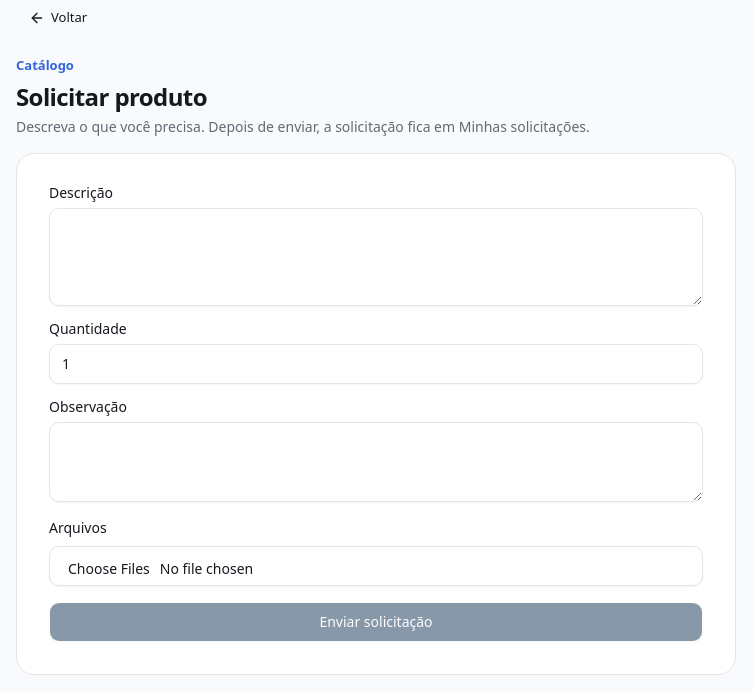
Test: PortalProductRequestPage validity gate › confirms the sent request and links Minhas solicitações
This screenshot has width=753, height=692.
Check: the link "Minhas solicitações" is not shown
Step 1. Type "Rede de vôlei" into the text box labelled "Descrição" → (376, 256), box 49,208 -> 703,306
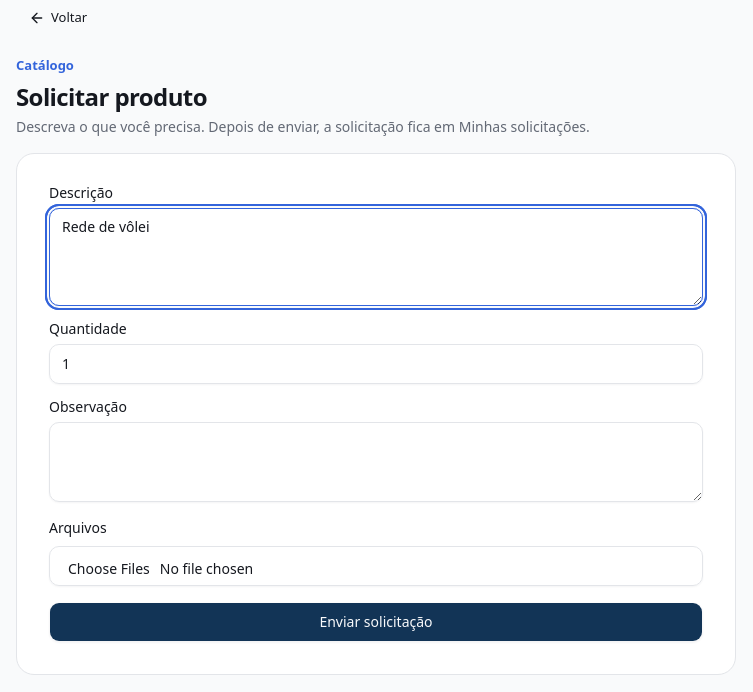
Step 2. Type "Cor azul" into the text box labelled "Observação" → (376, 462), box 49,422 -> 703,502
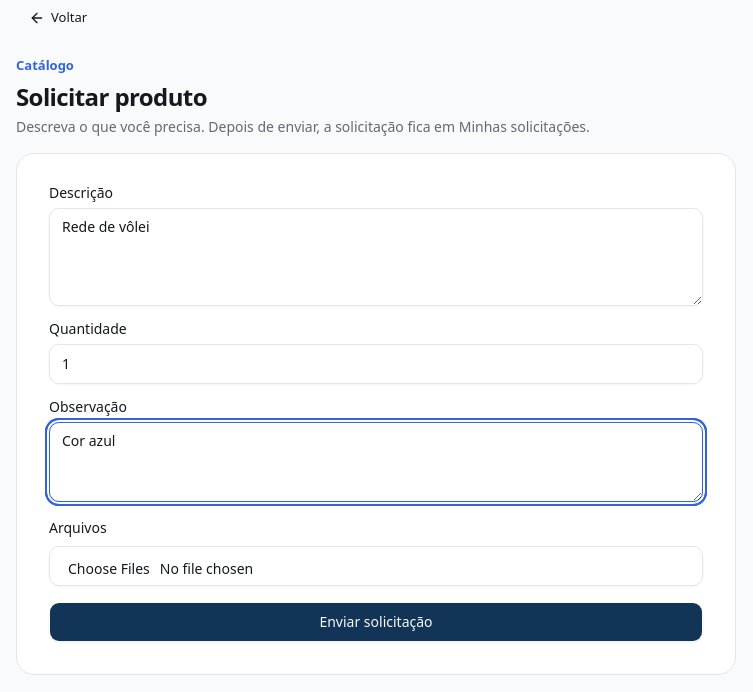
Step 3. Click the button "Enviar solicitação" → (376, 622), box 49,602 -> 703,642
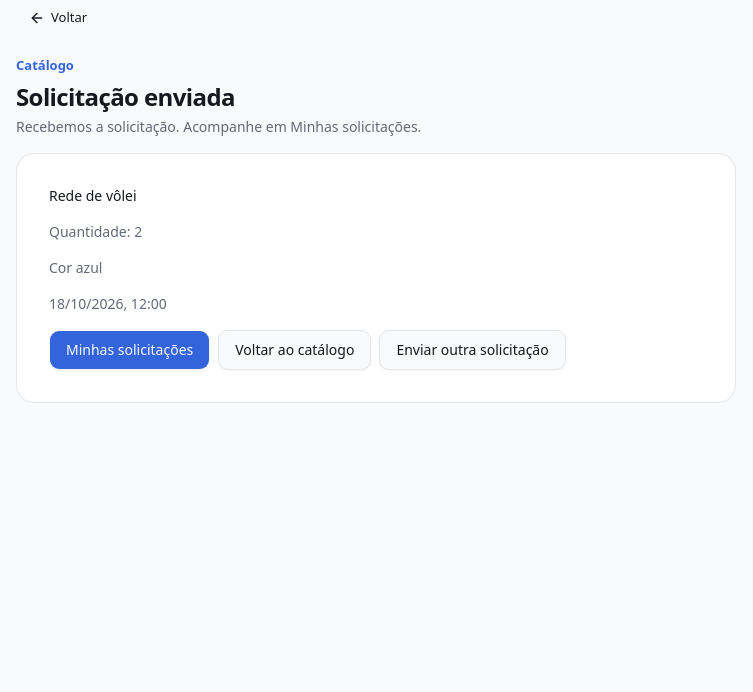
Check: the heading "Solicitação enviada" is shown, box 16,80 -> 235,112
Check: the text "Recebemos a solicitação. Acompanhe em Minhas solicitações." is shown, box 16,116 -> 421,136
Check: the message shows "Rede de vôlei", box 49,186 -> 137,204
